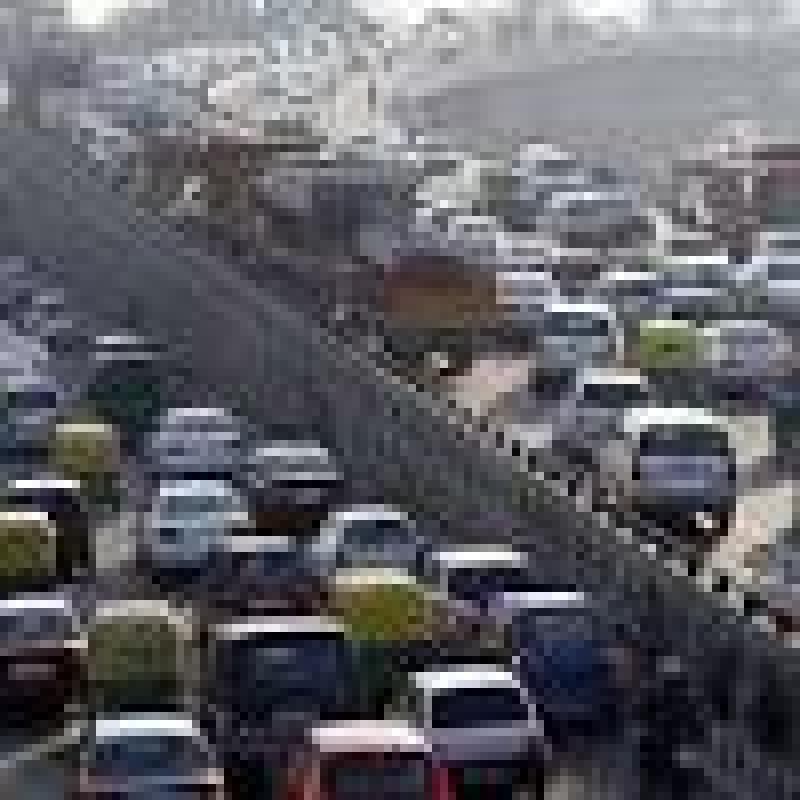auto: (81, 574, 204, 722), (332, 550, 444, 698), (631, 305, 734, 442), (40, 404, 139, 526), (0, 486, 68, 608)
